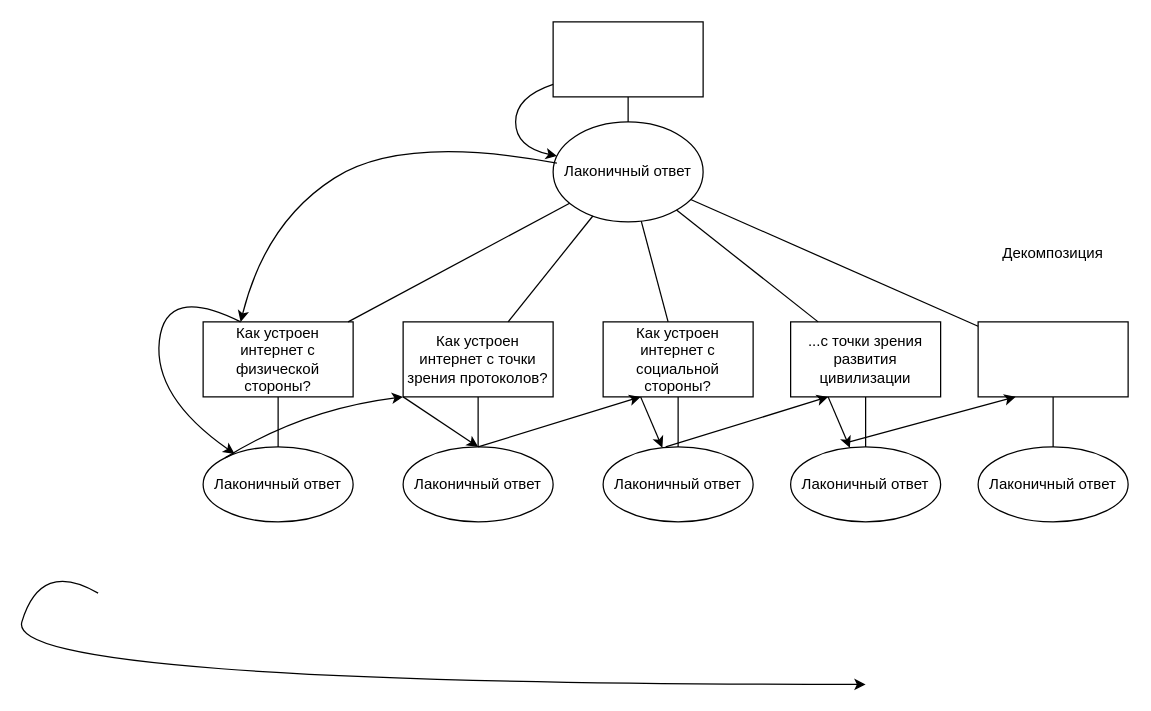
Some shapes in this 1151 by 711 pixel diagram are drawn without their labels. Here are the shapes that lost their labels. From the top down, the centre of each, then its label:
At point 627,59: "Как устроен интернет?".
At point 1052,359: "...с точки зрения бизнеса".
